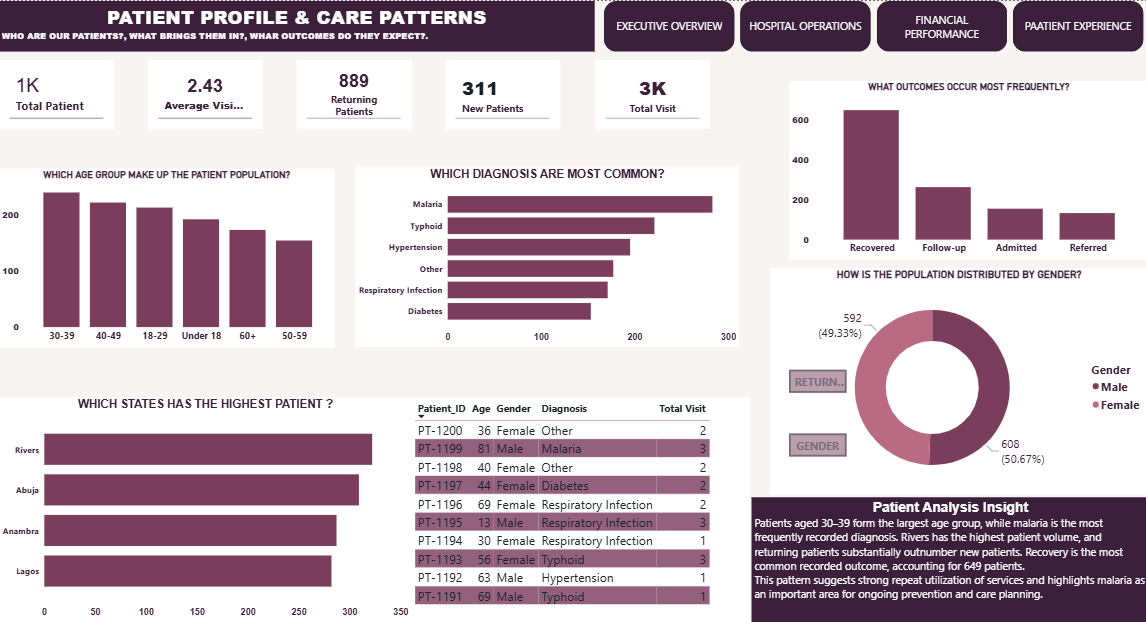

The page's visual inventory and layout, read from the dashboard file:
{"tool":"powerbi","page":{"name":"PATIENT ANALYSIS","canvas":[2000,1080],"ordinal":2},"visuals":[{"type":"textbox","box":[0,0,1035.7,88.1],"z":0},{"type":"cardVisual","fields":{"Data":["Patient_Visits.Total Patient"]},"box":[0,102,200,120],"z":1000},{"type":"cardVisual","fields":{"Data":["Dim_Branch.Average Visits per Patient"]},"box":[259,102,200,120],"z":2000},{"type":"cardVisual","fields":{"Data":["Patient_Visits.Total Visit"]},"box":[1036,102,200,120],"z":3000},{"type":"cardVisual","fields":{"Data":["Dim_Branch.Returning Patients"]},"box":[518,102,200,120],"z":4000},{"type":"cardVisual","fields":{"Data":["Dim_Branch.New Patients"]},"box":[777,102,200,120],"z":5000},{"type":"clusteredColumnChart","title":"WHICH AGE GROUP MAKE UP THE PATIENT POPULATION? ","fields":{"Y":["Patient_Visits.Total Patient"],"Category":["Patient_Visits.Age Group"]},"box":[0,292,584,312],"z":6000},{"type":"clusteredBarChart","title":"WHICH STATES HAS THE HIGHEST PATIENT ?","fields":{"Y":["Patient_Visits.Total Patient"],"Category":["Dim_Branch.State"]},"box":[0,688.9,717.8,391.1],"z":7000},{"type":"pageNavigator","box":[1052,0,938,88],"z":8000},{"type":"textbox","box":[1308,862,692,218],"z":9000},{"type":"clusteredColumnChart","title":"WHAT OUTCOMES OCCUR MOST FREQUENTLY?","fields":{"Y":["Patient_Visits.Total Patient"],"Category":["Patient_Visits.Outcome"]},"box":[1374,140,626,312],"z":10000},{"type":"clusteredBarChart","title":"WHICH DIAGNOSIS ARE MOST COMMON?","fields":{"Y":["Patient_Visits.Total Patient"],"Category":["Patient_Visits.Diagnosis"]},"box":[620,290,668,312],"z":11000},{"type":"donutChart","title":"HOW IS THE POPULATION DISTRIBUTED BY GENDER?","fields":{"Category":["Patient_Visits.Gender"],"Y":["Patient_Visits.Total Patient"]},"box":[1342.2,464.4,657.8,393.3],"z":13000},{"type":"tableEx","fields":{"Values":["Patient_Visits.Patient_ID","Patient_Visits.Age","Patient_Visits.Gender","Patient_Visits.Diagnosis","Patient_Visits.Total Visit"]},"box":[717.8,688.9,588.9,391.1],"z":14000},{"type":"actionButton","box":[1373.3,751.1,100,40],"z":14001},{"type":"actionButton","box":[1373.3,642.2,100,40],"z":14002}]}

Visuals, with their boxes in screenshot pixels (x1, y1, x2, y2), scaled from the page's 2000x1080 canvas onto the 1146x622 screenshot:
textbox: l=0, t=0, r=593, b=51
cardVisual - Patient_Visits.Total Patient: l=0, t=59, r=115, b=128
cardVisual - Dim_Branch.Average Visits per Patient: l=148, t=59, r=263, b=128
cardVisual - Patient_Visits.Total Visit: l=594, t=59, r=708, b=128
cardVisual - Dim_Branch.Returning Patients: l=297, t=59, r=411, b=128
cardVisual - Dim_Branch.New Patients: l=445, t=59, r=560, b=128
"WHICH AGE GROUP MAKE UP THE PATIENT POPULATION? " clusteredColumnChart: l=0, t=168, r=335, b=348
"WHICH STATES HAS THE HIGHEST PATIENT ?" clusteredBarChart: l=0, t=397, r=411, b=621
pageNavigator: l=603, t=0, r=1140, b=51
textbox: l=749, t=496, r=1145, b=621
"WHAT OUTCOMES OCCUR MOST FREQUENTLY?" clusteredColumnChart: l=787, t=81, r=1145, b=260
"WHICH DIAGNOSIS ARE MOST COMMON?" clusteredBarChart: l=355, t=167, r=738, b=347
"HOW IS THE POPULATION DISTRIBUTED BY GENDER?" donutChart: l=769, t=267, r=1145, b=494
tableEx - Patient_Visits.Patient_ID x Patient_Visits.Age: l=411, t=397, r=749, b=621
actionButton: l=787, t=433, r=844, b=456
actionButton: l=787, t=370, r=844, b=393
